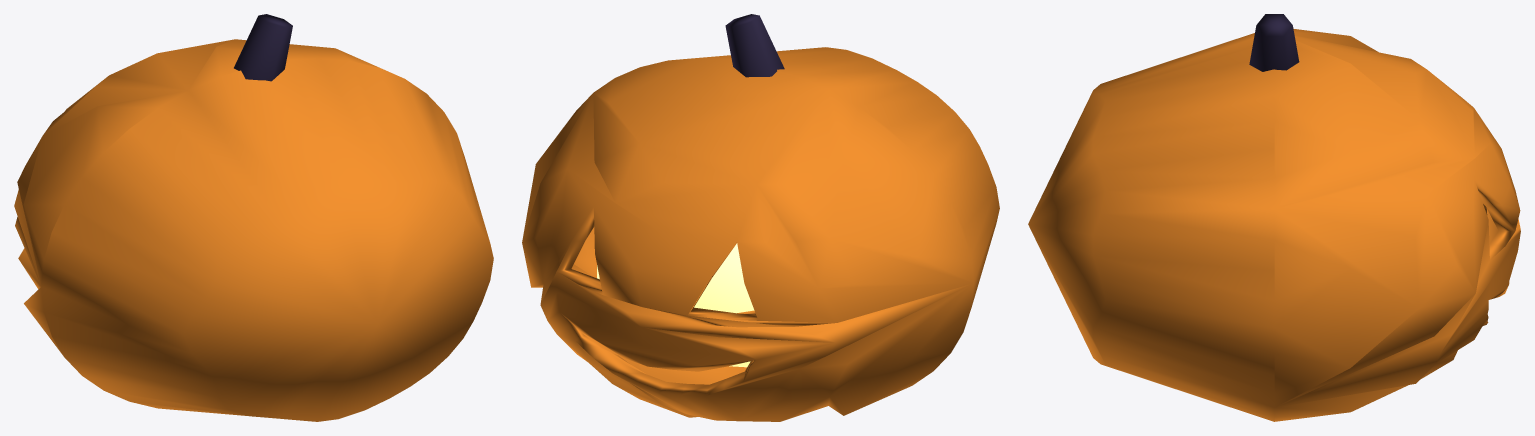
File: pumpkin_small_a.glb
The picture shows the model from 3 angles, left to right: view 1: azimuth 30°, elevation 25°; view 2: azimuth 150°, elevation 25°; view 3: azimuth 270°, elevation 25°; orthographic projection.
Bounding box in the file's own units: 0.45 × 0.3858 × 0.4498.
